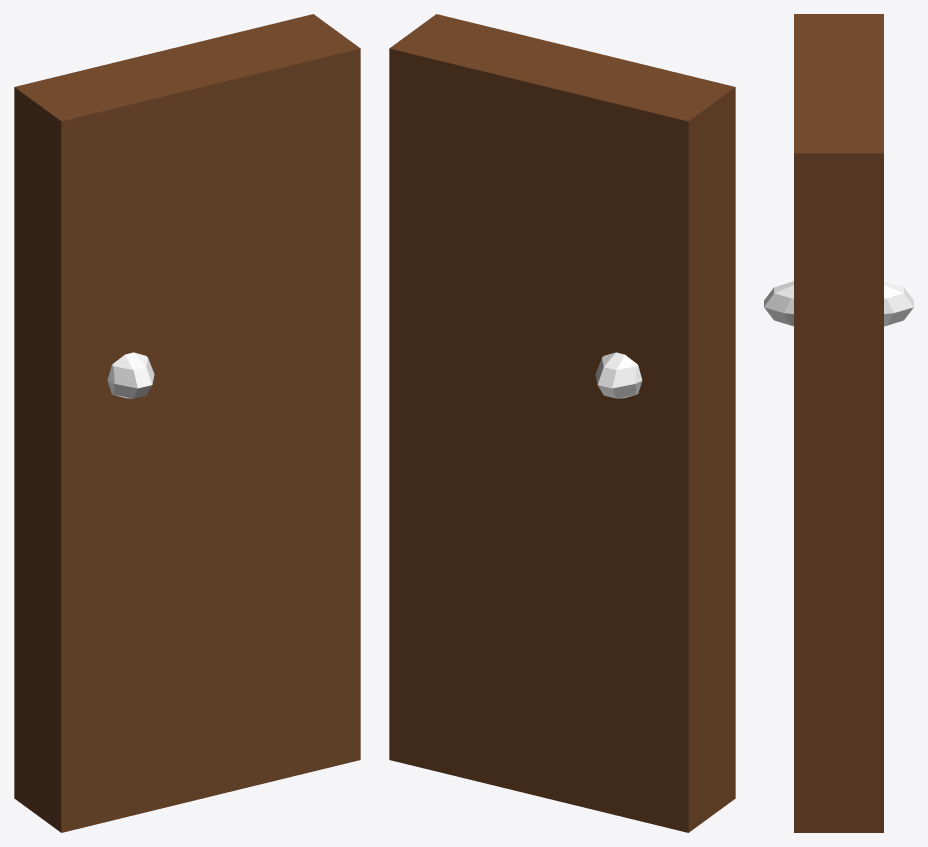
The model's file is Door.gltf.
The picture shows the model from 3 angles, left to right: view 1: azimuth 30°, elevation 25°; view 2: azimuth 150°, elevation 25°; view 3: azimuth 270°, elevation 25°; orthographic projection. The views are drawn at different scales.
Parts seen in each view (by area): view 1: mesh, sphere; view 2: mesh, sphere; view 3: mesh, sphere.
Part boxes in pixels (x1,y1,x2,y2): mesh: (14, 14, 360, 832); sphere: (107, 352, 154, 398); mesh: (389, 14, 735, 832); sphere: (595, 352, 642, 398); mesh: (794, 14, 883, 832); sphere: (764, 281, 913, 326).
Bounding box in the file's own units: 1.38 × 3.12 × 0.625.
Materials: 2 (1 with a texture image).
